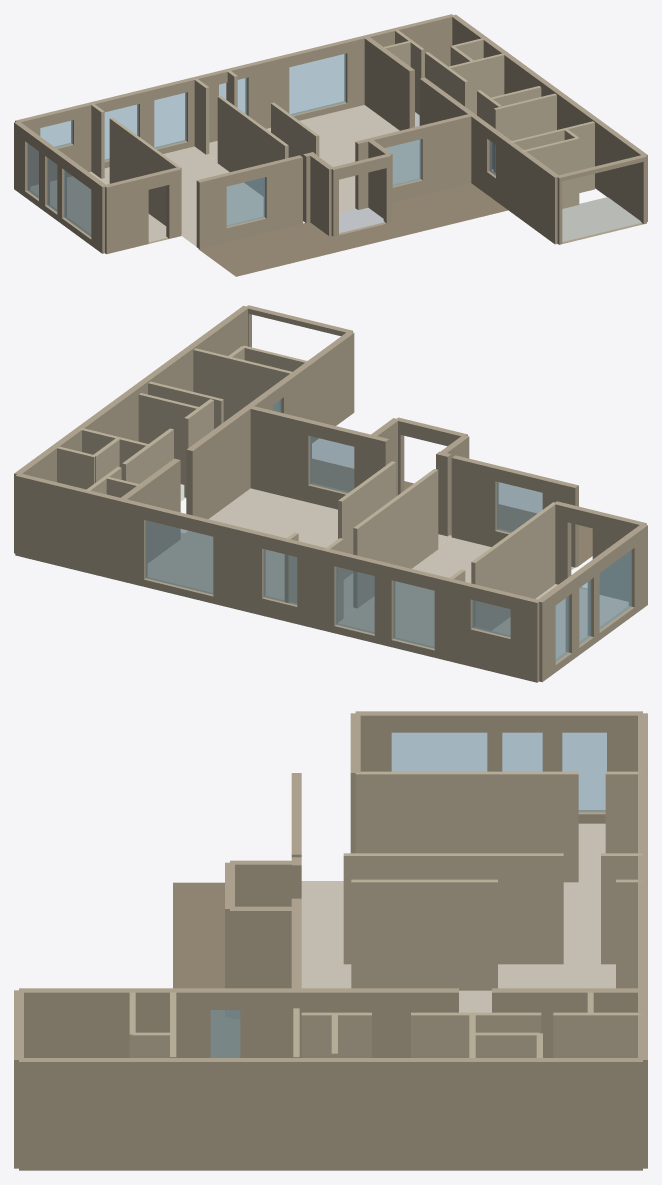
The model's file is fordham4684-mainfloor.glb.
The picture shows the model from 3 angles, top to bottom: view 1: azimuth 30°, elevation 25°; view 2: azimuth 150°, elevation 25°; view 3: azimuth 270°, elevation 25°; orthographic projection. The views are drawn at different scales.
Size of the model in its own units: 16.9 by 2.47 by 12.91.
